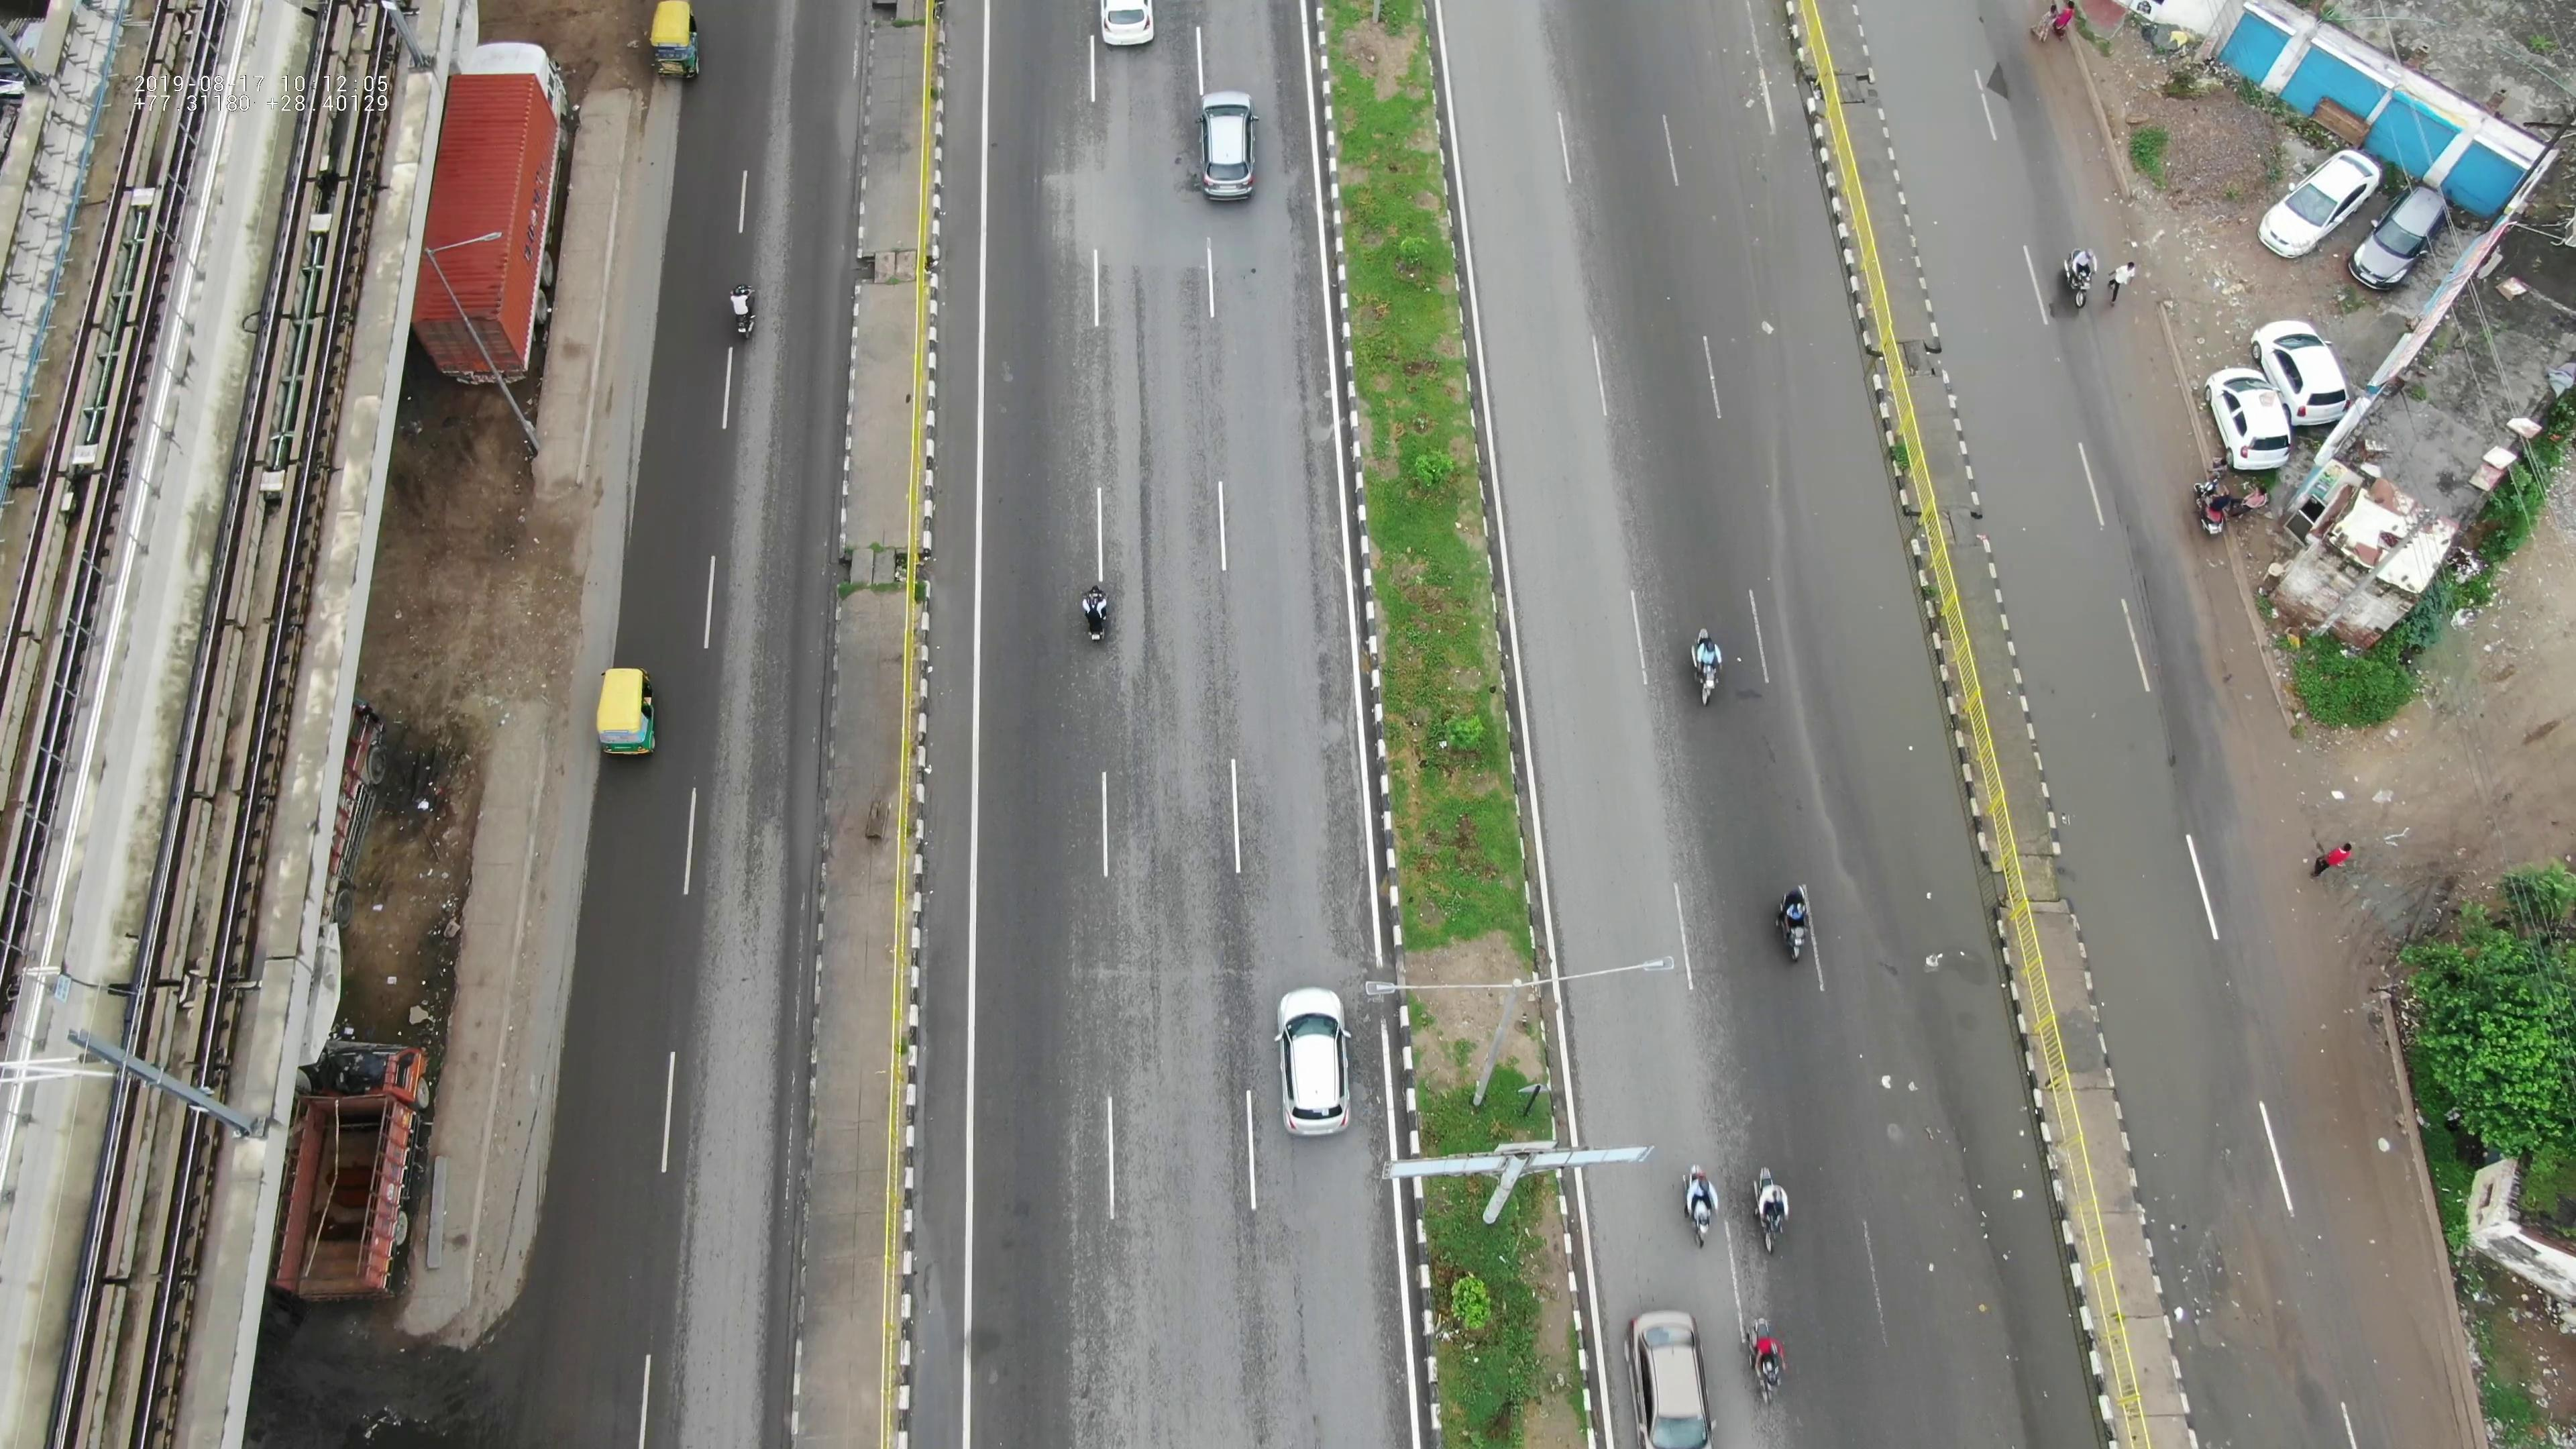Waterlogging: (1757, 168, 1976, 874), (2005, 610, 2249, 1212)
